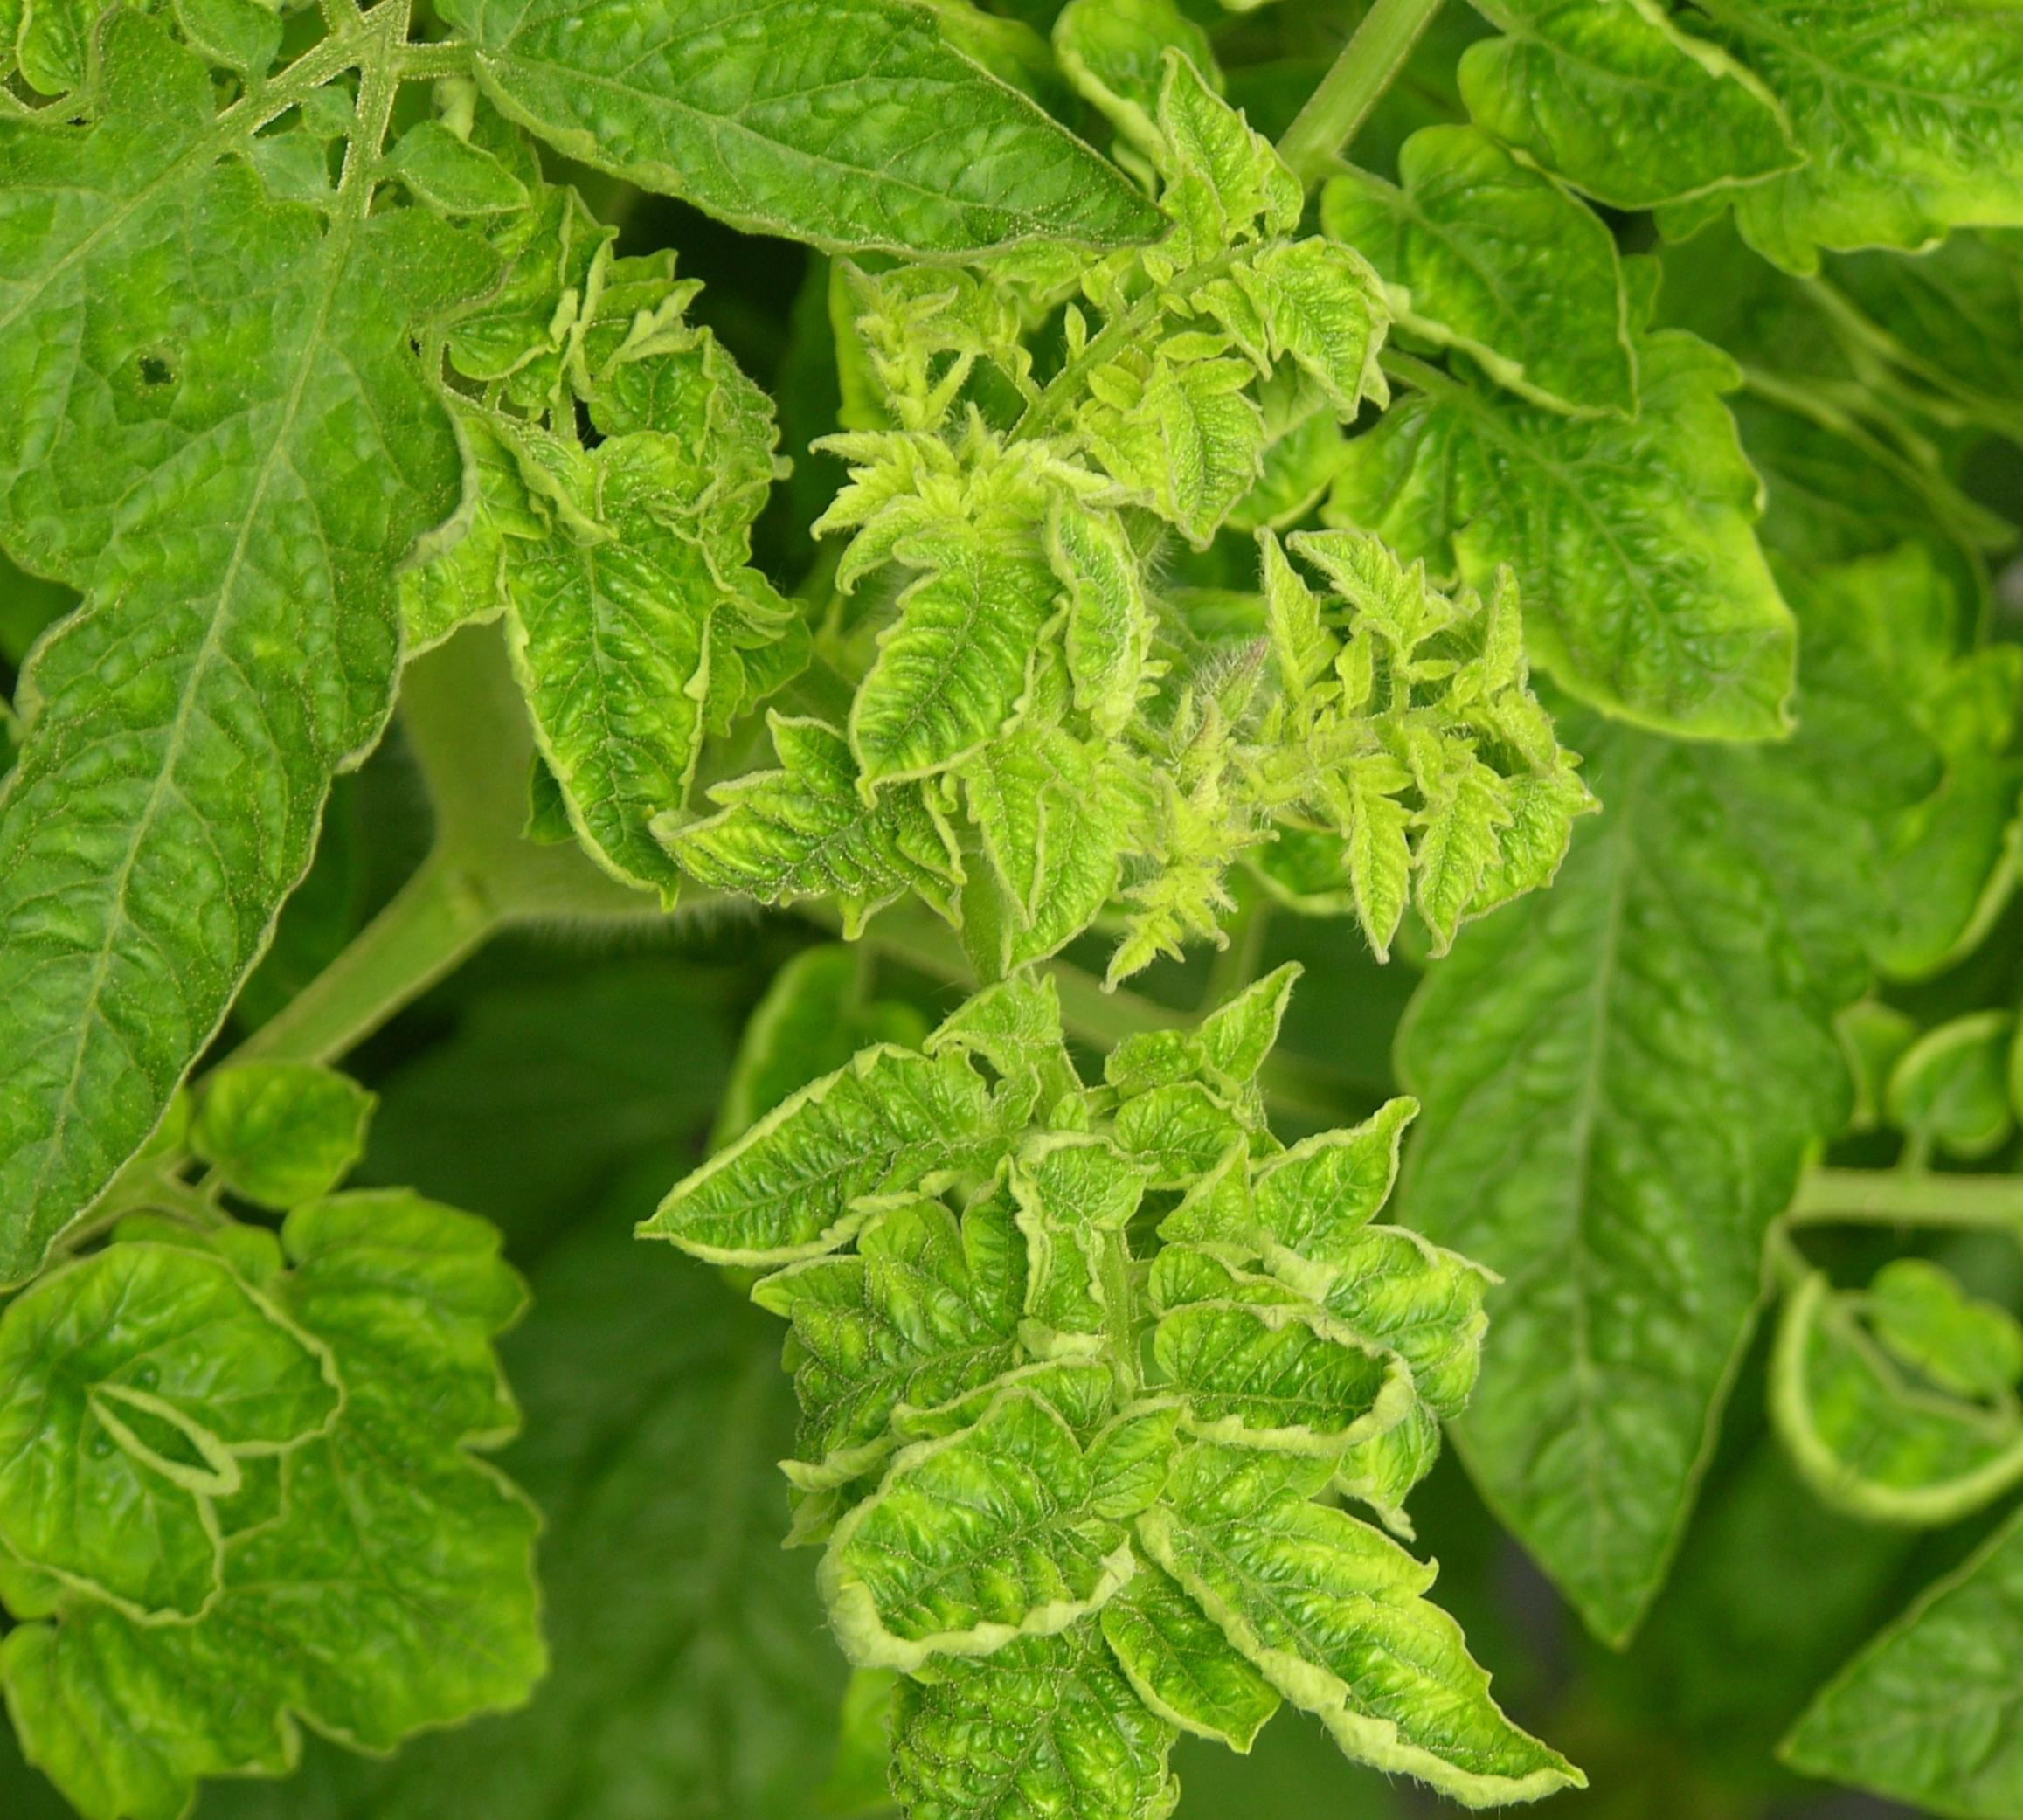Tomato leaf yellow virus: (0, 95, 768, 1333), (387, 0, 1318, 516), (1229, 260, 1896, 831), (339, 383, 907, 959), (1074, 1374, 1701, 1820), (715, 1296, 1211, 1811), (596, 903, 1076, 1416), (1051, 1172, 1490, 1564), (858, 1544, 1339, 1820), (772, 480, 1123, 849), (921, 664, 1250, 987), (1257, 752, 1489, 973), (1376, 747, 1561, 936)
